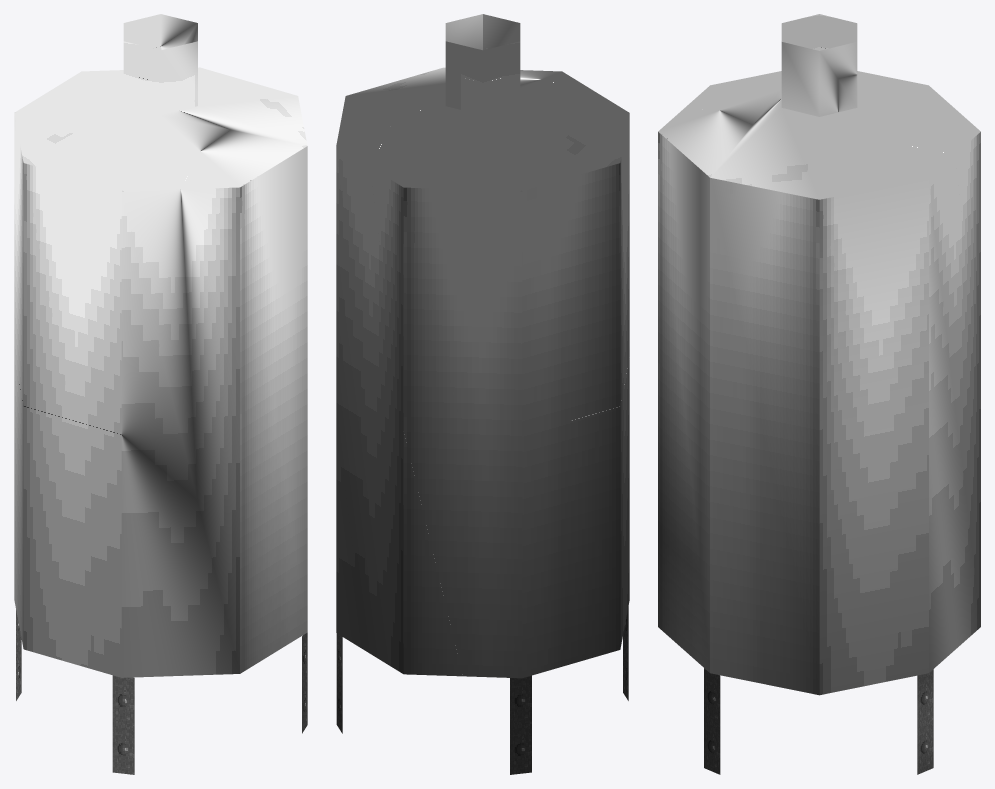
Rendered from PgastankZ.obj.
3 views of the same model, side by side, from view 1: azimuth 30°, elevation 25°; view 2: azimuth 150°, elevation 25°; view 3: azimuth 270°, elevation 25° (orthographic).
Bounding box in the file's own units: 886 × 2100 × 886.
5 materials, 5 textured.
